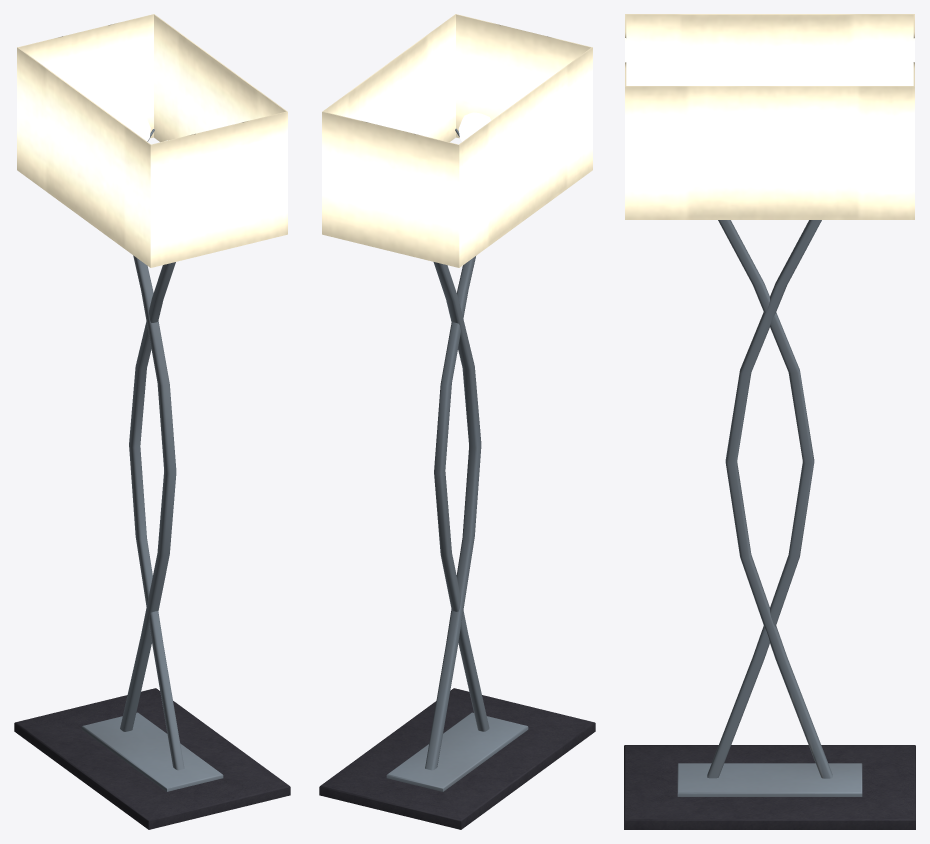
File: Lights_Floor_Lamps_1.fbx
The picture shows the model from 3 angles, left to right: view 1: azimuth 30°, elevation 25°; view 2: azimuth 150°, elevation 25°; view 3: azimuth 270°, elevation 25°; orthographic projection. The views are drawn at different scales.
Visible parts, largest first — view 1: Cylinder.037; view 2: Cylinder.037; view 3: Cylinder.037.
Part boxes in pixels (left/top/right/bottom): Cylinder.037: left=14, top=14, right=290, bottom=829; Cylinder.037: left=319, top=14, right=595, bottom=829; Cylinder.037: left=624, top=14, right=915, bottom=829.
Bounding box in the file's own units: 65.2 × 39.7 × 183.
